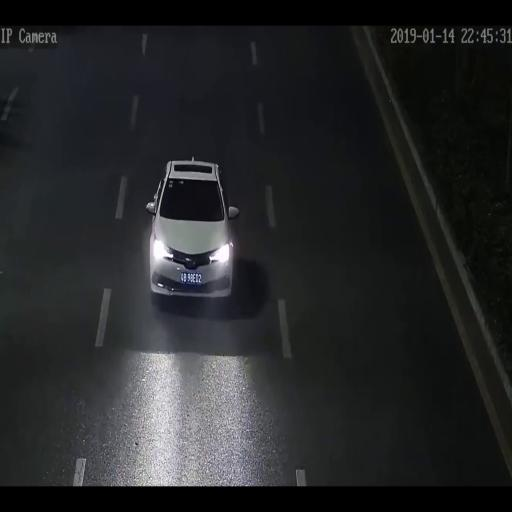License plate: (180, 272, 202, 285)
Vehicle: (146, 156, 240, 299)
